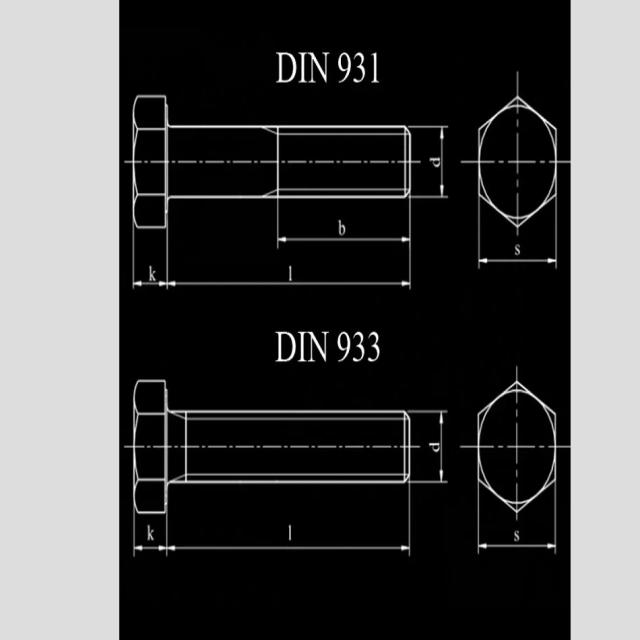marking_line: (168, 280, 410, 288), (168, 545, 409, 552), (278, 235, 410, 244), (479, 257, 556, 264), (479, 542, 556, 549), (438, 413, 444, 482), (439, 129, 445, 196), (134, 544, 166, 552), (132, 281, 164, 288)
numeric: (334, 50, 352, 85), (351, 327, 366, 364), (366, 328, 380, 367), (336, 328, 351, 364), (353, 51, 367, 87), (370, 51, 380, 87)
